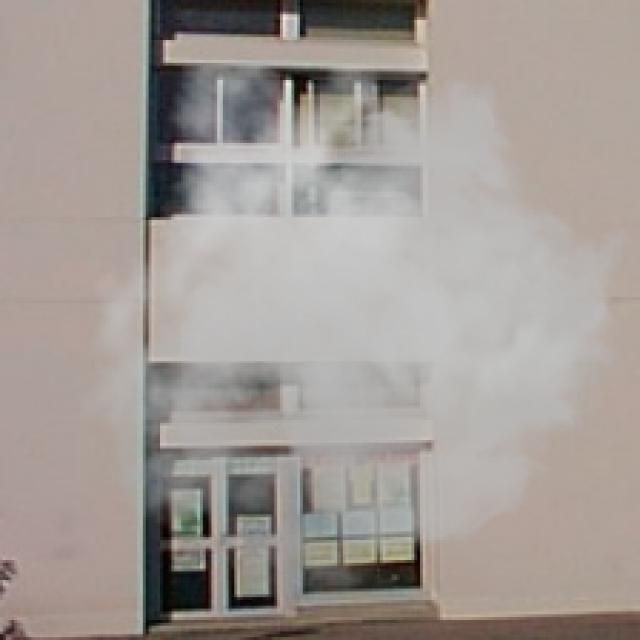Smoke: (75, 66, 634, 603)
